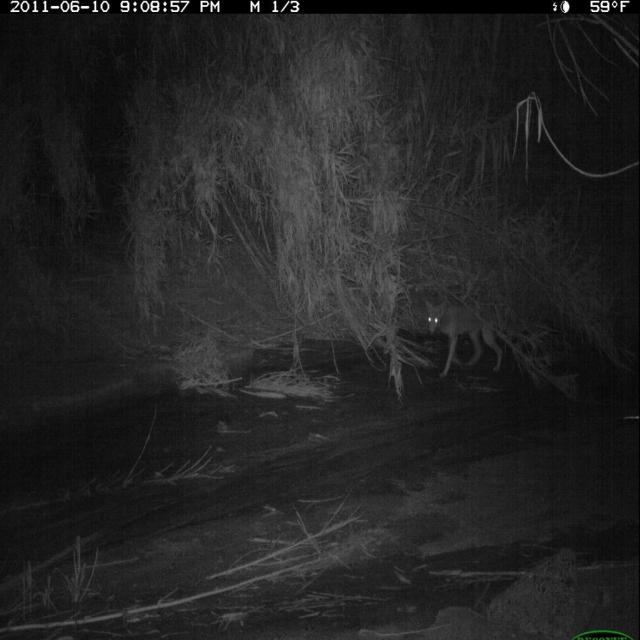coyote: (420, 292, 515, 384)
